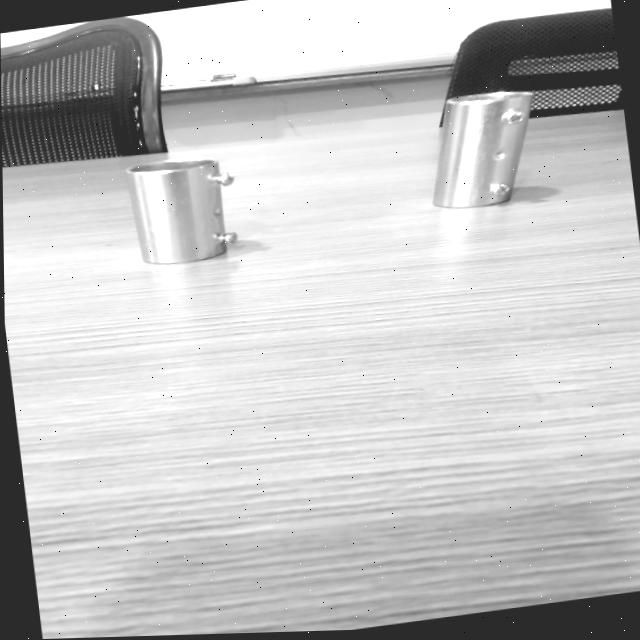Co_Lon: (431, 82, 532, 214)
Co_Nho: (124, 150, 243, 267)
